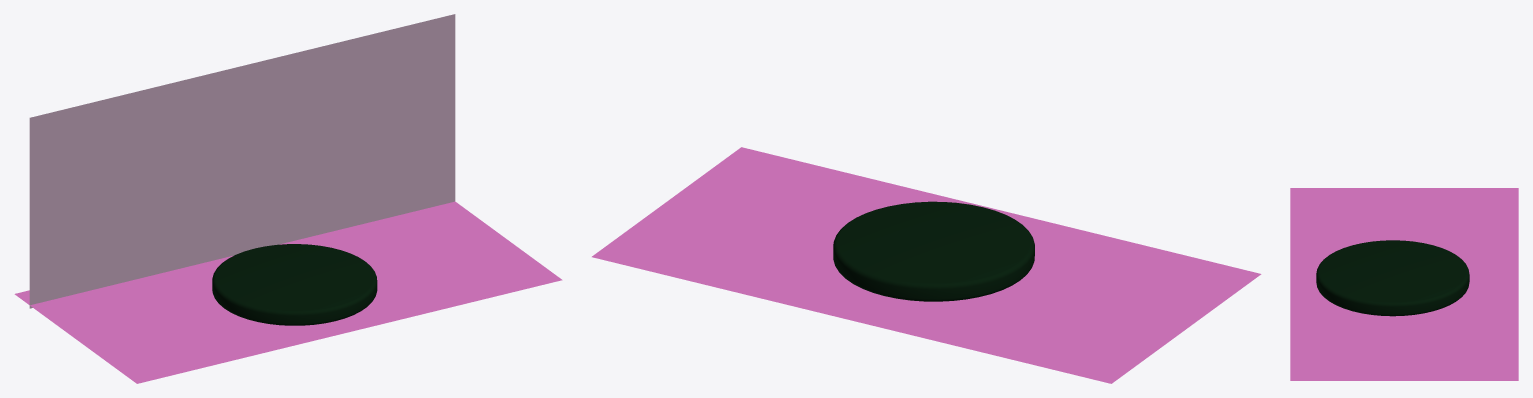
Rendered from NY2021-BEZ.glb.
The picture shows the model from 3 angles, left to right: view 1: azimuth 30°, elevation 25°; view 2: azimuth 150°, elevation 25°; view 3: azimuth 270°, elevation 25°; orthographic projection. The views are drawn at different scales.
Visible parts, largest first — view 1: Plane.1, Plane, Cylinder; view 2: Plane, Cylinder; view 3: Plane, Cylinder.
Boxes of the visible parts, bbox=[...] form: Plane.1: bbox=[29, 14, 455, 308]; Plane: bbox=[14, 201, 562, 383]; Cylinder: bbox=[212, 244, 377, 325]; Plane: bbox=[592, 147, 1261, 383]; Cylinder: bbox=[833, 201, 1034, 301]; Plane: bbox=[1290, 188, 1518, 380]; Cylinder: bbox=[1316, 240, 1469, 316].
Bounding box in the file's own units: 700 × 300 × 350.
